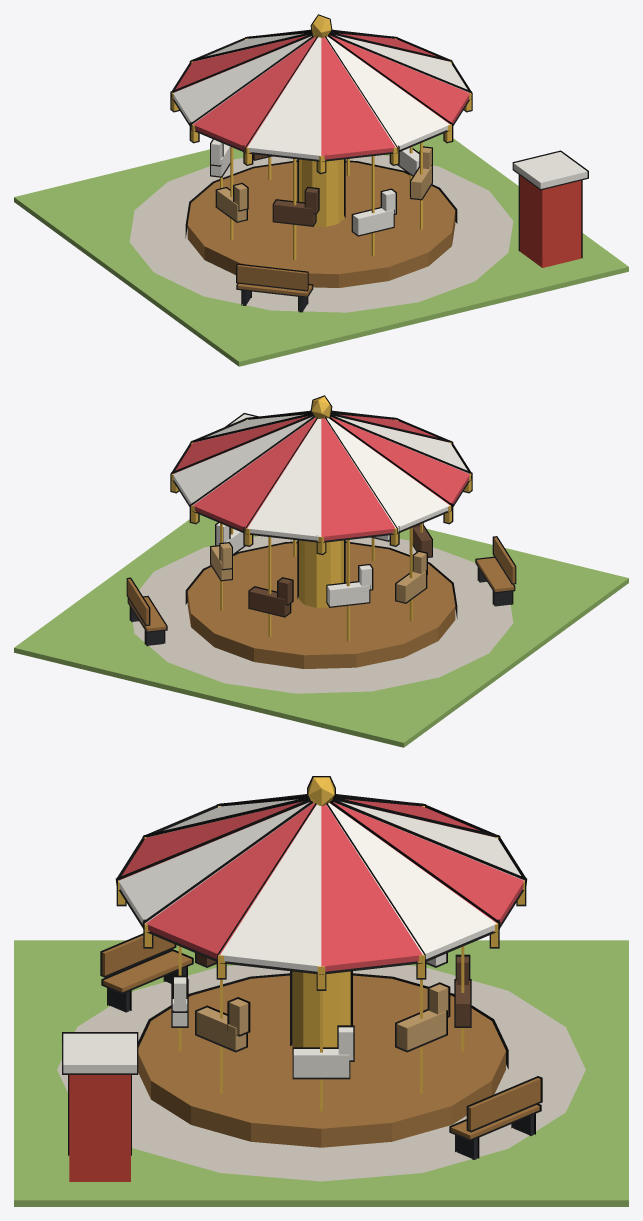
Rendered from Park_cim_atlikarinca.fbx.
The picture shows the model from 3 angles, top to bottom: view 1: azimuth 30°, elevation 25°; view 2: azimuth 150°, elevation 25°; view 3: azimuth 270°, elevation 25°; orthographic projection. The views are drawn at different scales.
Visible parts, largest first — view 1: Park_cim_atlikarinca; view 2: Park_cim_atlikarinca; view 3: Park_cim_atlikarinca.
Part boxes in pixels (x1,y1,x2,y2): Park_cim_atlikarinca: (14,14,628,366); Park_cim_atlikarinca: (14,395,628,747); Park_cim_atlikarinca: (14,776,628,1206).
Size of the model in its own units: 10 by 5.4 by 10.
